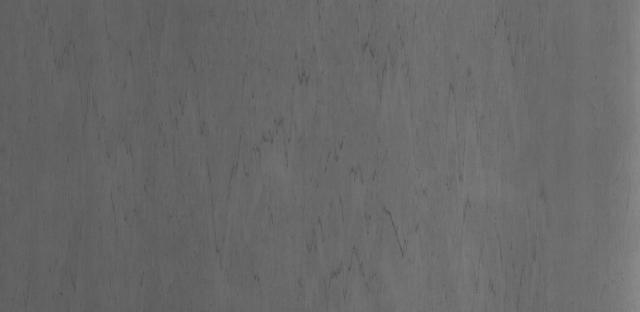silk_spot: (90, 38, 488, 291)
